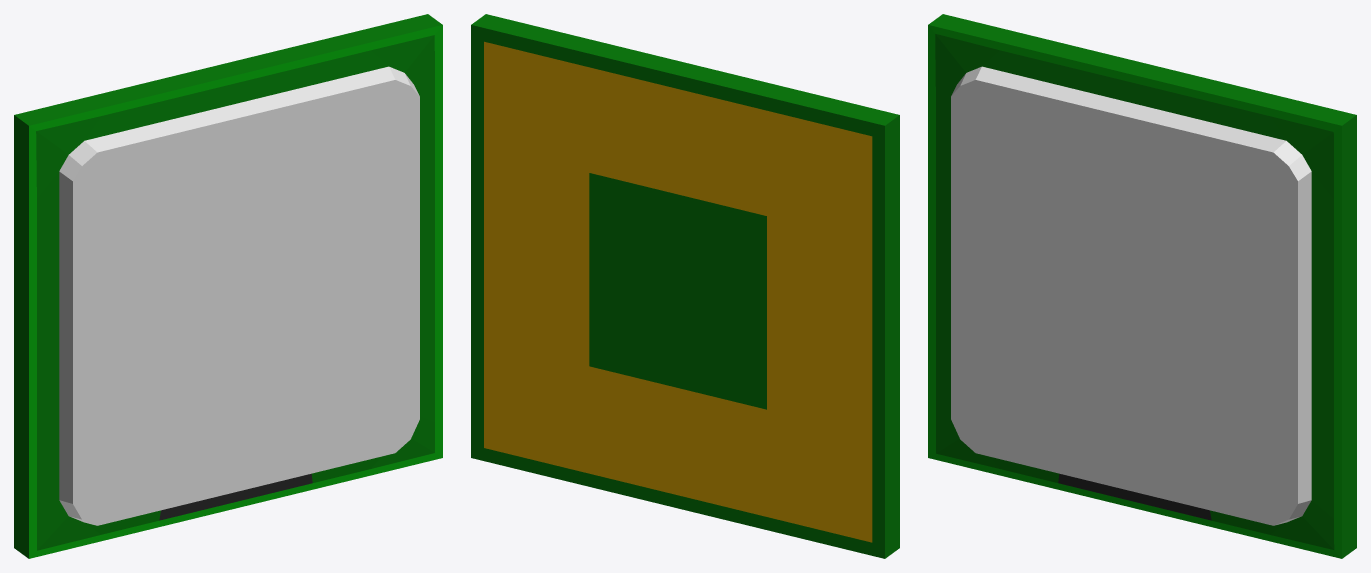
The model's file is s478_1-intel.fbx.
3 renders of one model, left to right at view 1: azimuth 30°, elevation 25°; view 2: azimuth 150°, elevation 25°; view 3: azimuth 330°, elevation 25°, orthographic.
Visible parts, largest first — view 1: Plane.001; view 2: Plane.001; view 3: Plane.001.
Part boxes in pixels (x1,y1,x2,y2): Plane.001: [14, 14, 442, 558]; Plane.001: [471, 14, 899, 558]; Plane.001: [928, 14, 1356, 558].
Bounding box in the file's own units: 34.74 × 34.74 × 3.69.
